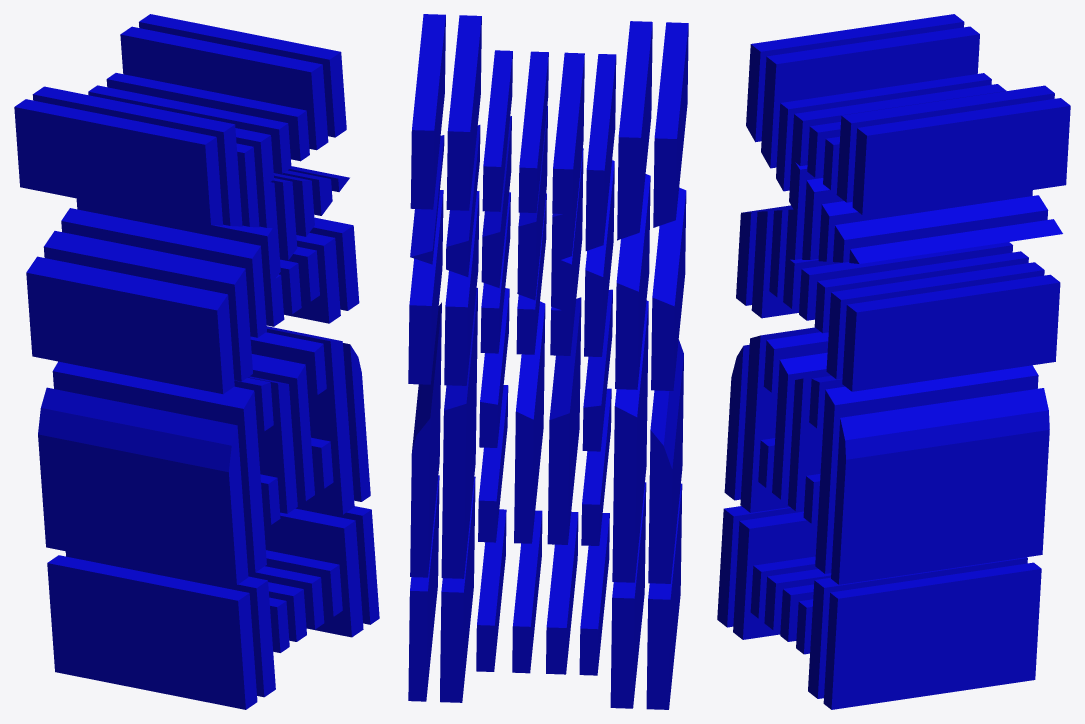
The model's file is IBM.glb.
The picture shows the model from 3 angles, left to right: view 1: azimuth 30°, elevation 25°; view 2: azimuth 150°, elevation 25°; view 3: azimuth 270°, elevation 25°; orthographic projection. The views are drawn at different scales.
Visible parts, largest first — view 1: _0; view 2: _0; view 3: _0.
Part boxes in pixels (box(x1,y1,x2,y2)): _0: box(14, 14, 379, 709); _0: box(408, 14, 688, 709); _0: box(717, 14, 1070, 709).
Size of the model in its own units: 4.52 by 8.18 by 4.5.
